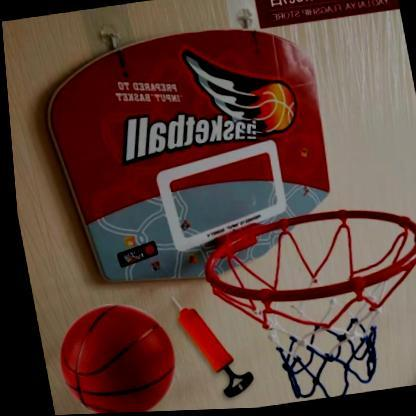basketball: (43, 297, 177, 415)
rim: (192, 202, 416, 411)
